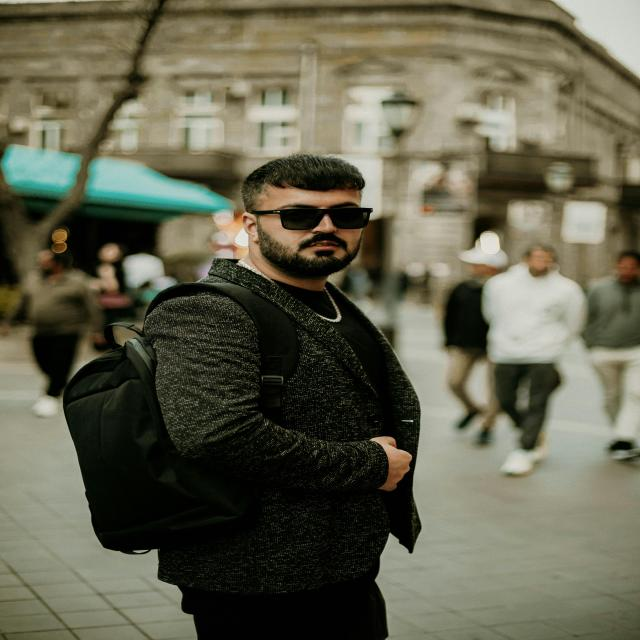human: (50, 150, 438, 640)
